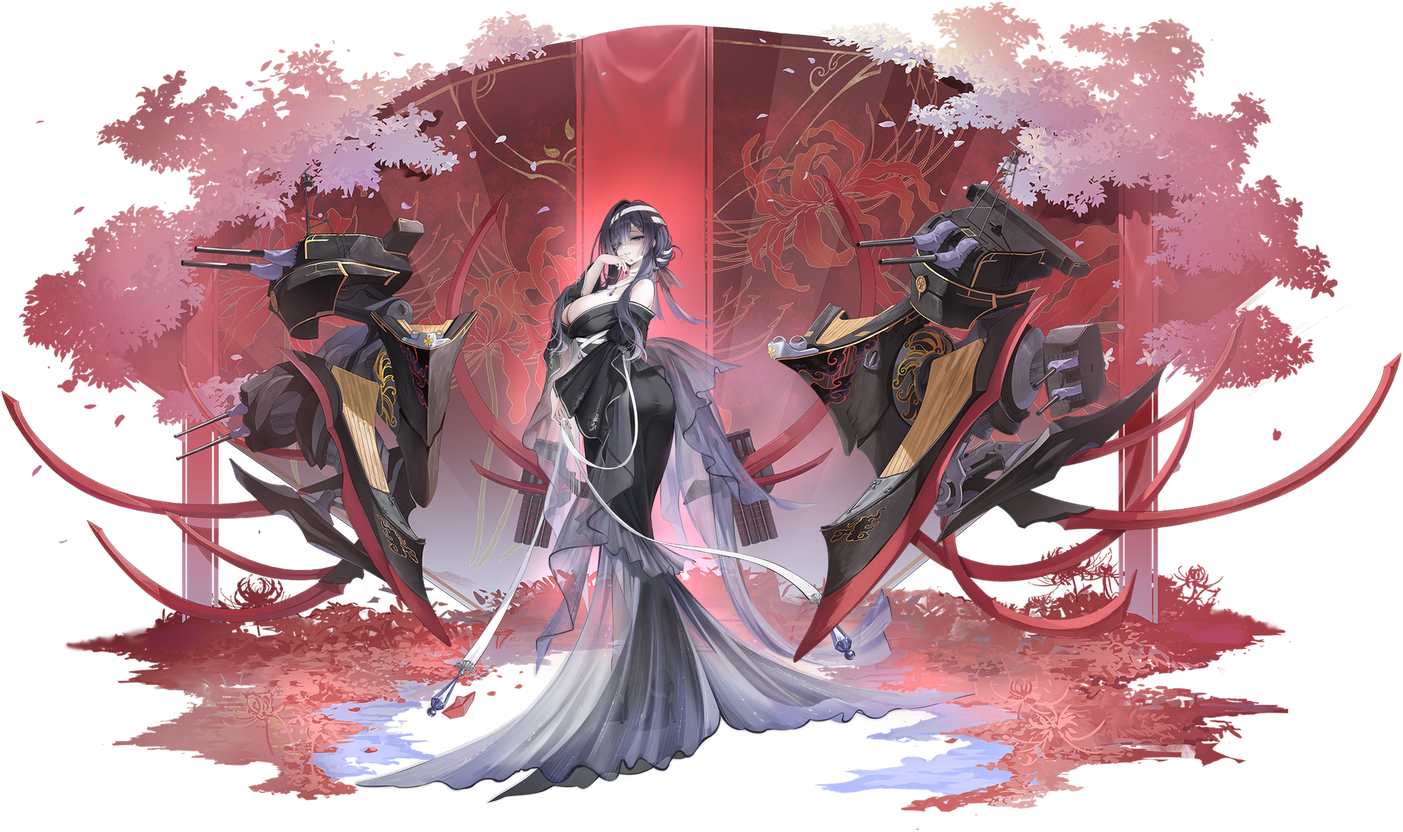person: (506, 179, 765, 760)
